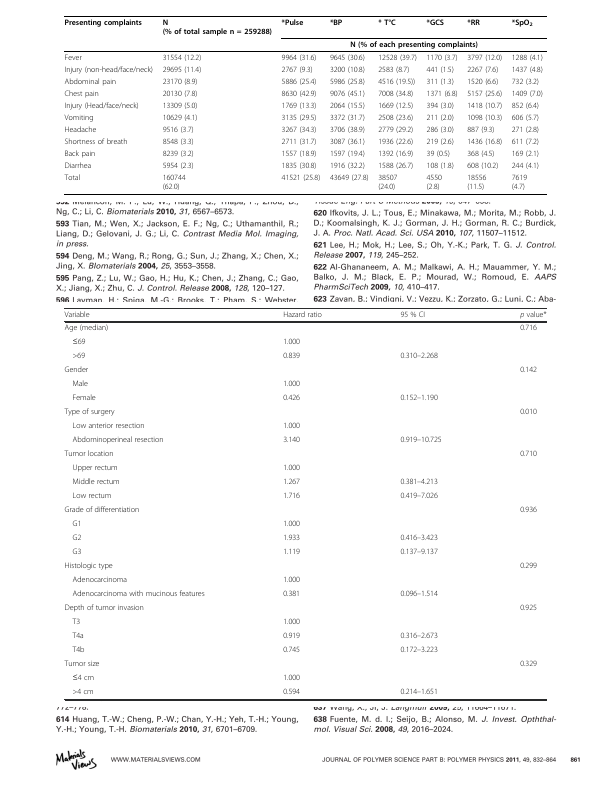borderless: (63, 307, 546, 699), (63, 14, 547, 194)
cell: (162, 18, 273, 36), (71, 590, 205, 600), (349, 40, 479, 50), (71, 436, 164, 446), (64, 65, 154, 75), (63, 604, 145, 614), (63, 506, 140, 516), (64, 101, 140, 111), (71, 422, 145, 432), (64, 18, 143, 27), (64, 137, 128, 147), (71, 576, 128, 586), (64, 77, 117, 87), (64, 408, 115, 418), (63, 562, 114, 572), (64, 450, 114, 460), (71, 478, 121, 488), (71, 464, 118, 474), (64, 324, 109, 334), (162, 173, 186, 191), (399, 436, 442, 446), (71, 492, 112, 502), (377, 53, 418, 63), (399, 352, 439, 362), (399, 394, 439, 404), (399, 478, 439, 488), (399, 492, 439, 502), (399, 534, 439, 544), (399, 548, 439, 558), (399, 590, 439, 600), (399, 632, 439, 642), (399, 646, 439, 656), (399, 688, 439, 698), (162, 53, 202, 63), (162, 65, 202, 75), (377, 77, 416, 87), (377, 173, 398, 191), (466, 173, 487, 191), (63, 660, 100, 670), (329, 53, 366, 63), (466, 53, 503, 63), (329, 65, 366, 75), (329, 77, 366, 87), (329, 89, 366, 99), (377, 89, 414, 99), (466, 89, 503, 99), (329, 101, 366, 111), (377, 101, 414, 111), (466, 101, 503, 111), (329, 113, 366, 123), (377, 113, 414, 123), (466, 113, 503, 123), (329, 125, 366, 135), (377, 125, 414, 135), (329, 137, 366, 147), (377, 137, 414, 147), (466, 137, 503, 147), (282, 311, 323, 320), (281, 53, 317, 63), (162, 77, 198, 87), (281, 77, 317, 87), (64, 89, 100, 99), (162, 89, 198, 99), (281, 89, 317, 99), (162, 101, 198, 111), (281, 101, 317, 111), (162, 113, 198, 123), (281, 113, 317, 123), (281, 125, 317, 135), (281, 137, 317, 147), (281, 173, 321, 182), (329, 173, 369, 182), (329, 149, 366, 158), (377, 149, 414, 158), (329, 161, 366, 170), (377, 161, 414, 170), (425, 53, 458, 63), (511, 53, 544, 63), (281, 65, 314, 75), (377, 65, 410, 75), (466, 65, 499, 75), (511, 65, 544, 75), (466, 77, 499, 87), (425, 89, 458, 99), (511, 89, 544, 99), (64, 125, 97, 135), (162, 125, 195, 135), (162, 137, 195, 147), (281, 149, 317, 158), (281, 161, 317, 170), (425, 173, 443, 191), (511, 173, 528, 191), (425, 65, 455, 75), (425, 77, 455, 87), (425, 101, 455, 111), (64, 113, 94, 123), (425, 113, 455, 123), (425, 125, 455, 135), (425, 137, 455, 147), (162, 149, 195, 158), (162, 161, 195, 170), (466, 161, 499, 170), (511, 77, 540, 87), (511, 101, 540, 111), (511, 113, 540, 123), (466, 125, 495, 135), (511, 125, 540, 135), (511, 137, 540, 147), (64, 149, 96, 158), (425, 161, 455, 170), (466, 149, 495, 158), (511, 149, 540, 158), (511, 161, 540, 170), (71, 394, 97, 404), (519, 311, 547, 320), (64, 161, 92, 170), (64, 366, 89, 376), (399, 311, 426, 320), (71, 674, 95, 684), (64, 311, 90, 320), (425, 149, 451, 158), (71, 688, 94, 698), (511, 18, 534, 28), (281, 18, 304, 27), (519, 324, 538, 334), (282, 338, 301, 348), (282, 352, 301, 362), (519, 366, 538, 376), (282, 380, 301, 390), (282, 394, 301, 404), (519, 408, 538, 418), (282, 422, 301, 432), (282, 436, 301, 446), (519, 450, 538, 460), (282, 464, 301, 474), (282, 478, 301, 488), (282, 492, 301, 502), (519, 506, 538, 516), (282, 520, 301, 530), (282, 534, 301, 544), (282, 548, 301, 558), (519, 562, 538, 572), (282, 576, 301, 586), (282, 590, 301, 600), (519, 604, 538, 614), (282, 618, 301, 628), (282, 632, 301, 642), (282, 646, 301, 656), (519, 660, 538, 670), (282, 674, 301, 684), (282, 688, 301, 698), (64, 53, 83, 63), (71, 380, 89, 390), (377, 18, 397, 27), (425, 18, 445, 27), (64, 173, 81, 182), (71, 338, 86, 348), (71, 352, 86, 362), (71, 632, 85, 642), (71, 646, 85, 656), (466, 18, 481, 27), (329, 18, 343, 27), (71, 520, 82, 530), (71, 534, 82, 544), (71, 548, 82, 558), (71, 618, 81, 628)
